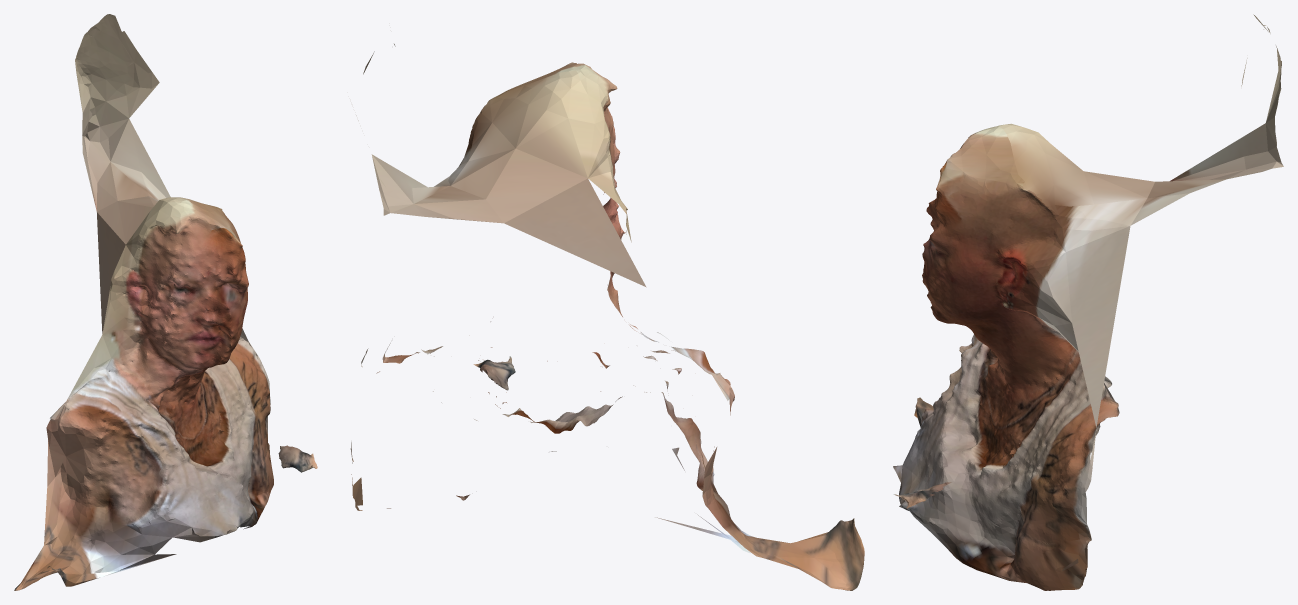
The model's file is joelk3d.glb.
3 renders of one model, left to right at view 1: azimuth 30°, elevation 25°; view 2: azimuth 150°, elevation 25°; view 3: azimuth 270°, elevation 25°, orthographic. The views are drawn at different scales.
Visible parts, largest first — view 1: mesh; view 2: mesh; view 3: mesh.
Boxes of the visible parts, box(x1,y1,x2,y2) form: mesh: box(14, 14, 317, 590); mesh: box(350, 44, 864, 590); mesh: box(893, 14, 1283, 590).
Bounding box in the file's own units: 0.7259 × 0.9956 × 0.6513.
1 material, 1 textured.
